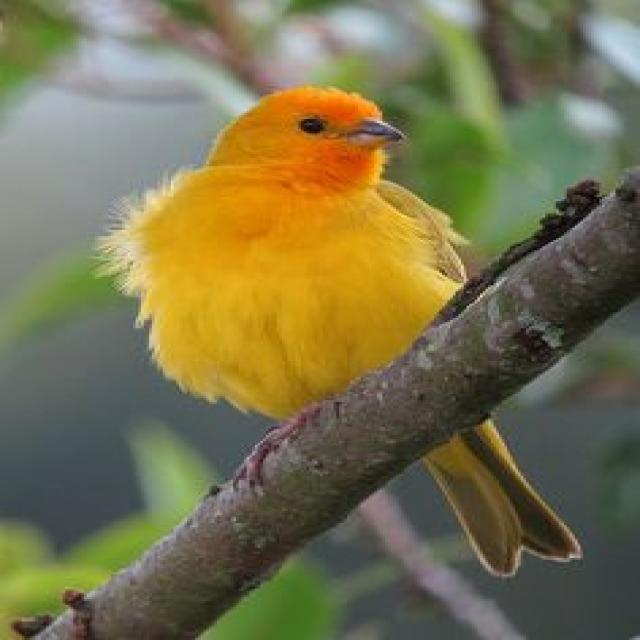Herbivorous: (89, 86, 488, 425), (420, 423, 583, 581)
